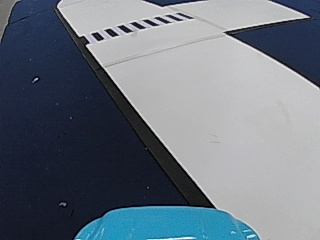CrossWalk: (83, 13, 189, 43)
